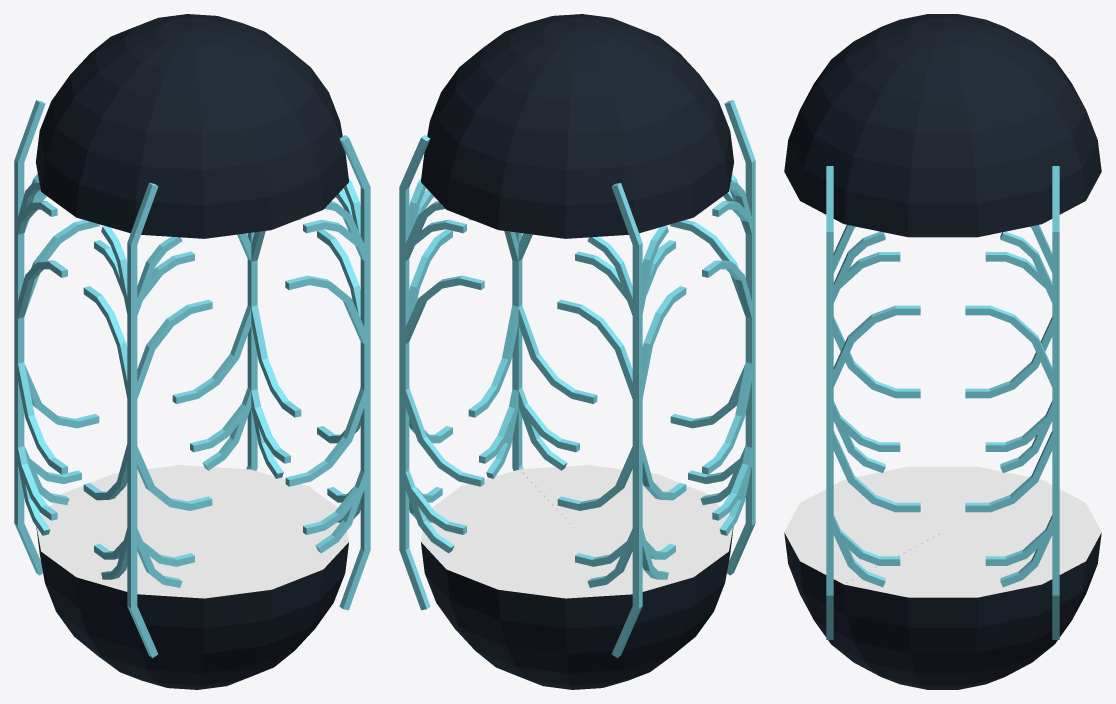
File: healing_chamber_inner.obj
3 renders of one model, left to right at view 1: azimuth 30°, elevation 25°; view 2: azimuth 150°, elevation 25°; view 3: azimuth 270°, elevation 25°, orthographic.
Visible parts, largest first — view 1: Sphere_Sphere.002, Sphere.001_Sphere.003, Plane.004, Plane.006, Plane, cube.147, cube.153, Plane.007, cube.143, Plane.001, Plane.005, Plane.003 (+8 smaller); view 2: Sphere_Sphere.002, Sphere.001_Sphere.003, Plane, Plane.005, Plane.007, Plane.003, cube.143, Plane.001, cube.149, cube.147, Plane.004, Plane.006 (+9 smaller); view 3: Sphere_Sphere.002, Sphere.001_Sphere.003, Plane.003, Plane, Plane.006, Plane.007, Plane.004, Plane.001, cube.149, cube.153, Plane.005, Plane.008 (+2 smaller).
Boxes of the visible parts, <box> form: Sphere_Sphere.002: <box>36,14,348,238</box>; Sphere.001_Sphere.003: <box>36,527,348,689</box>; Plane.004: <box>76,465,249,591</box>; Plane.006: <box>36,486,337,551</box>; Plane: <box>62,474,271,598</box>; cube.147: <box>127,243,137,608</box>; cube.153: <box>360,187,370,551</box>; Plane.007: <box>42,531,348,569</box>; cube.143: <box>14,160,24,525</box>; Plane.001: <box>41,469,307,576</box>; Plane.005: <box>71,495,348,541</box>; Plane.003: <box>113,465,204,598</box>; Sphere_Sphere.002: <box>421,14,733,238</box>; Sphere.001_Sphere.003: <box>421,473,733,689</box>; Plane: <box>499,474,707,598</box>; Plane.005: <box>461,469,630,597</box>; Plane.007: <box>520,465,692,591</box>; Plane.003: <box>447,494,728,589</box>; cube.143: <box>632,243,642,608</box>; Plane.001: <box>421,513,728,576</box>; cube.149: <box>399,187,409,551</box>; cube.147: <box>745,160,755,525</box>; Plane.004: <box>421,522,732,569</box>; Plane.006: <box>432,486,693,592</box>; Sphere_Sphere.002: <box>784,14,1101,237</box>; Sphere.001_Sphere.003: <box>784,533,1101,689</box>; Plane.003: <box>800,479,1101,560</box>; Plane: <box>784,503,1101,531</box>; Plane.006: <box>908,467,1041,597</box>; Plane.007: <box>800,467,1041,584</box>; Plane.004: <box>845,466,1085,584</box>; Plane.001: <box>908,466,1041,597</box>; cube.149: <box>1052,232,1059,595</box>; cube.153: <box>826,232,833,595</box>; Plane.005: <box>844,522,1045,597</box>; Plane.008: <box>784,480,1085,560</box>.
Size of the model in its own units: 1.33 by 3.06 by 1.36.
